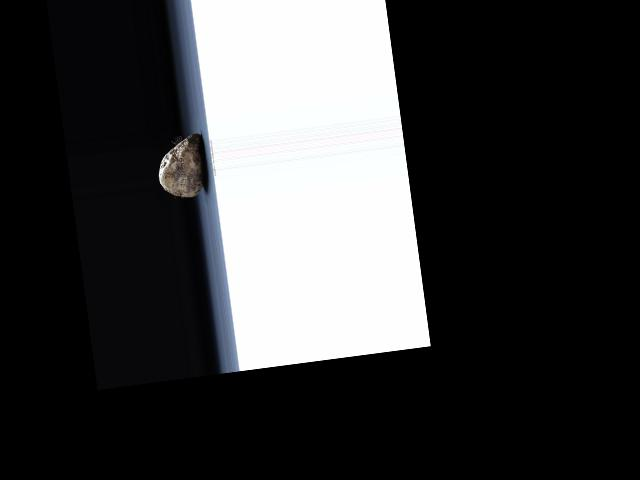beet: (154, 134, 208, 201)
